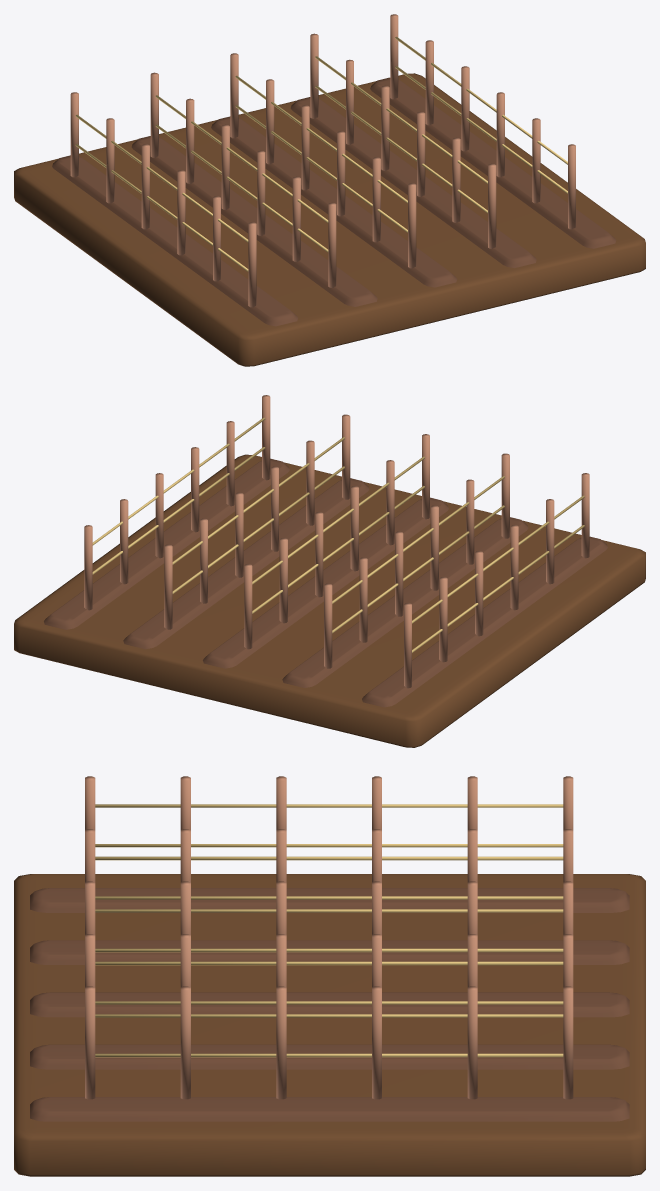
File: Plotbase.fbx
3 renders of one model, top to bottom at view 1: azimuth 30°, elevation 25°; view 2: azimuth 150°, elevation 25°; view 3: azimuth 270°, elevation 25°, orthographic. The views are drawn at different scales.
Visible parts, largest first — view 1: Plots; view 2: Plots; view 3: Plots.
Boxes of the visible parts, x1,y1,x2,y2 form: Plots: (14,14,645,366); Plots: (14,395,645,747); Plots: (14,776,645,1176).
Bounding box in the file's own units: 369 × 100 × 369.
